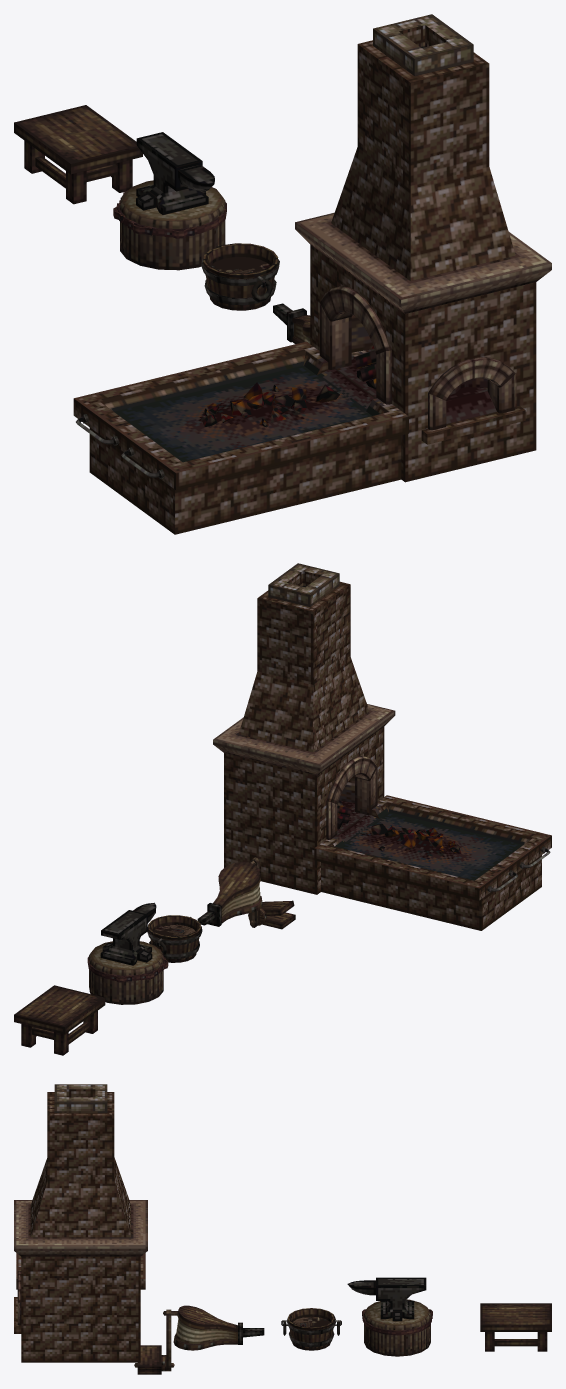
Rendered from EnvObjMD_Smith_Fireplace.FBX.
The picture shows the model from 3 angles, top to bottom: view 1: azimuth 30°, elevation 25°; view 2: azimuth 150°, elevation 25°; view 3: azimuth 270°, elevation 25°; orthographic projection. The views are drawn at different scales.
Visible parts, largest first — view 1: EnvObjMD_Smith_Fireplace, EnvObjMD_Smith_Kanadoko, EnvObjMD_Smith_Table_A, EnvObjMD_Smith_Tub_A, EnvObjMD_Smith_Fuigo; view 2: EnvObjMD_Smith_Fireplace, EnvObjMD_Smith_Kanadoko, EnvObjMD_Smith_Table_A, EnvObjMD_Smith_Fuigo, EnvObjMD_Smith_Tub_A; view 3: EnvObjMD_Smith_Fireplace, EnvObjMD_Smith_Kanadoko, EnvObjMD_Smith_Fuigo, EnvObjMD_Smith_Table_A, EnvObjMD_Smith_Tub_A.
Boxes of the visible parts, box(x1,y1,x2,y2) form: EnvObjMD_Smith_Fireplace: box(73, 14, 551, 534); EnvObjMD_Smith_Kanadoko: box(113, 132, 226, 270); EnvObjMD_Smith_Table_A: box(14, 105, 142, 204); EnvObjMD_Smith_Tub_A: box(201, 243, 279, 310); EnvObjMD_Smith_Fuigo: box(273, 303, 310, 343); EnvObjMD_Smith_Fireplace: box(213, 563, 551, 930); EnvObjMD_Smith_Kanadoko: box(87, 902, 168, 1004); EnvObjMD_Smith_Table_A: box(14, 985, 105, 1055); EnvObjMD_Smith_Fuigo: box(197, 857, 295, 929); EnvObjMD_Smith_Tub_A: box(147, 915, 202, 962); EnvObjMD_Smith_Fireplace: box(14, 1084, 147, 1362); EnvObjMD_Smith_Kanadoko: box(347, 1277, 432, 1356); EnvObjMD_Smith_Fuigo: box(134, 1305, 264, 1374); EnvObjMD_Smith_Table_A: box(480, 1303, 551, 1351); EnvObjMD_Smith_Tub_A: box(281, 1308, 341, 1350).
Size of the model in its own units: 590 by 640 by 1125.
